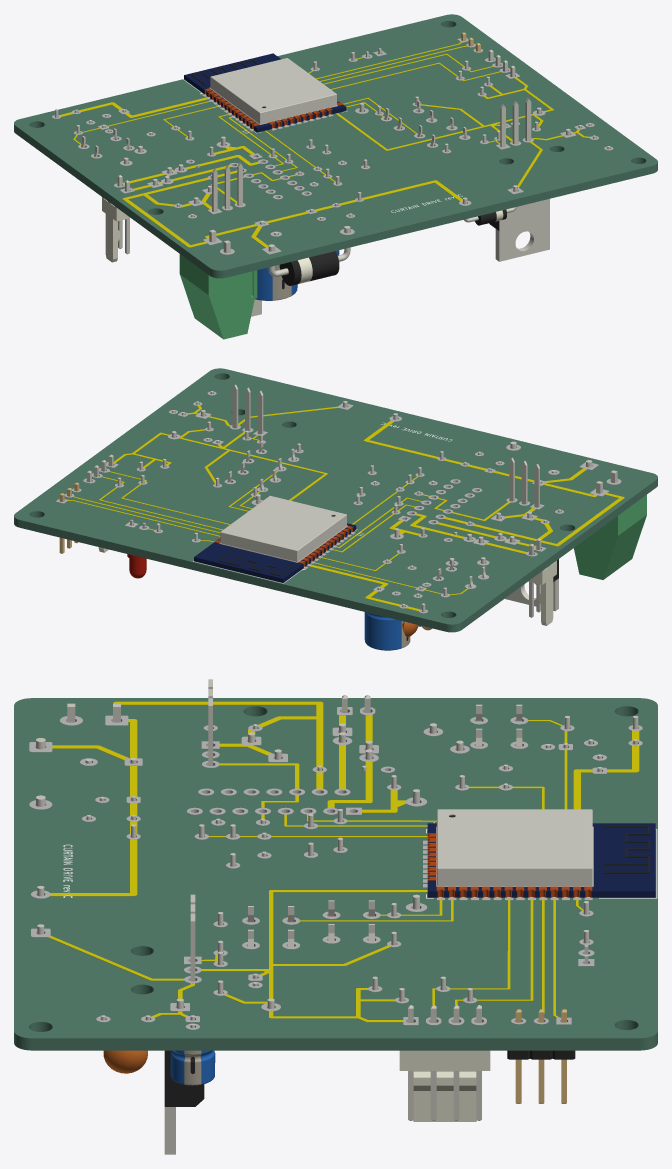
File: curtain-drive-revC-pcb.glb
3 views of the same model, one above another, from view 1: azimuth 30°, elevation 25°; view 2: azimuth 150°, elevation 25°; view 3: azimuth 270°, elevation 25° (orthographic). The views are drawn at different scales.
Visible parts, largest first — view 1: =>[0:1:1:38], =>[0:1:1:3], =>[0:1:1:34], =>[0:1:1:35], =>[0:1:1:7] (×2), =>[0:1:1:31], =>[0:1:1:29], =>[0:1:1:21], =>[0:1:1:33], =>[0:1:1:13]; view 2: =>[0:1:1:38], =>[0:1:1:3], =>[0:1:1:34], =>[0:1:1:35], =>[0:1:1:31], =>[0:1:1:7] (×2), =>[0:1:1:23], =>[0:1:1:21], =>[0:1:1:27]; view 3: =>[0:1:1:38], =>[0:1:1:3], =>[0:1:1:34], =>[0:1:1:35], =>[0:1:1:25], =>[0:1:1:7], =>[0:1:1:11], =>[0:1:1:15], =>[0:1:1:9].
Part boxes in pixels (x1,y1,x2,y2): =>[0:1:1:38]: [14, 14, 657, 278]; =>[0:1:1:3]: [184, 53, 346, 132]; =>[0:1:1:34]: [59, 42, 589, 247]; =>[0:1:1:35]: [52, 38, 613, 254]; =>[0:1:1:7] (×2): [212, 97, 549, 316]; =>[0:1:1:31]: [179, 229, 257, 339]; =>[0:1:1:29]: [268, 226, 350, 285]; =>[0:1:1:21]: [102, 175, 130, 262]; =>[0:1:1:33]: [255, 221, 297, 300]; =>[0:1:1:13]: [463, 185, 517, 225]; =>[0:1:1:38]: [14, 368, 657, 632]; =>[0:1:1:3]: [194, 495, 356, 582]; =>[0:1:1:34]: [68, 405, 624, 611]; =>[0:1:1:35]: [56, 391, 621, 613]; =>[0:1:1:31]: [574, 470, 646, 579]; =>[0:1:1:7] (×2): [232, 384, 558, 611]; =>[0:1:1:23]: [364, 586, 410, 650]; =>[0:1:1:21]: [528, 538, 556, 625]; =>[0:1:1:27]: [127, 519, 146, 578]; =>[0:1:1:38]: [14, 698, 657, 1050]; =>[0:1:1:3]: [427, 809, 655, 897]; =>[0:1:1:34]: [48, 701, 639, 1022]; =>[0:1:1:35]: [29, 707, 642, 1029]; =>[0:1:1:25]: [399, 1005, 490, 1121]; =>[0:1:1:7]: [164, 894, 204, 1154]; =>[0:1:1:11]: [507, 1009, 575, 1103]; =>[0:1:1:15]: [170, 1015, 215, 1085]; =>[0:1:1:9]: [101, 1015, 150, 1073].
Size of the model in its own units: 0.09 by 0.0285 by 0.072.
